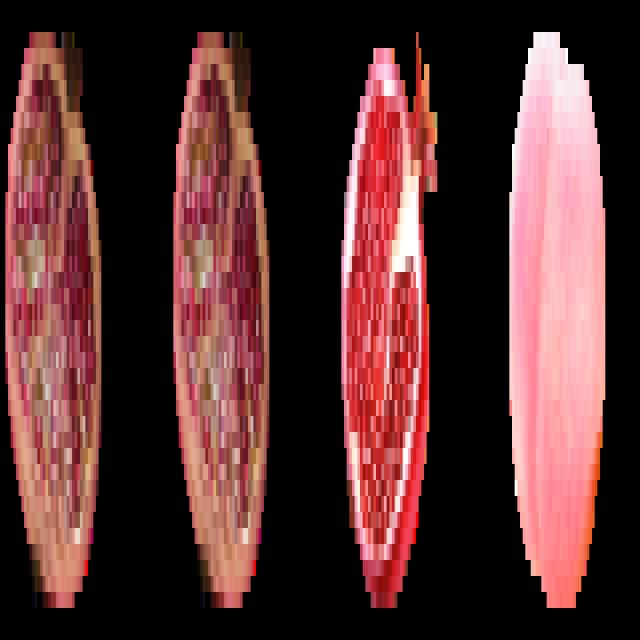peach: (506, 13, 614, 628)
pomegranate: (334, 10, 446, 624), (170, 10, 276, 628), (3, 12, 107, 624)
